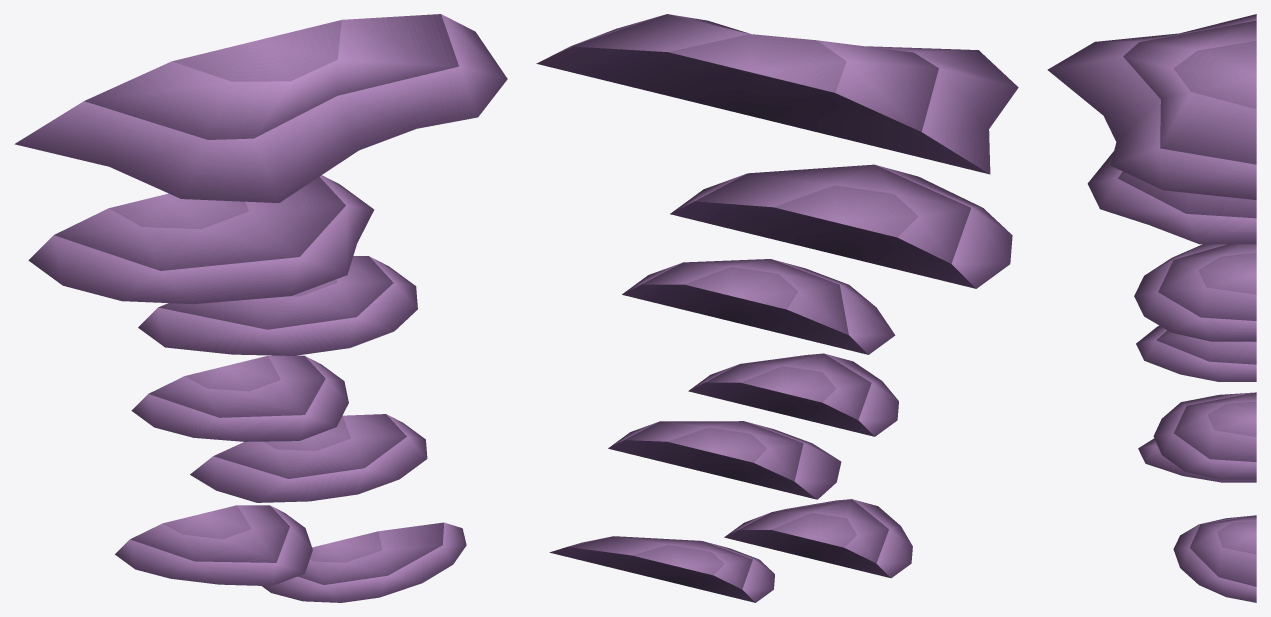
Rendered from Mushroom_6B.fbx.
3 views of the same model, side by side, from view 1: azimuth 30°, elevation 25°; view 2: azimuth 150°, elevation 25°; view 3: azimuth 270°, elevation 25° (orthographic). The views are drawn at different scales.
Visible parts, largest first — view 1: Mushroom_6B; view 2: Mushroom_6B; view 3: Mushroom_6B.
Part boxes in pixels (<box>): Mushroom_6B: <box>14,14,507,602</box>; Mushroom_6B: <box>536,14,1018,602</box>; Mushroom_6B: <box>1047,14,1256,602</box>.
Bounding box in the file's own units: 1.01 × 1.12 × 0.4789.
